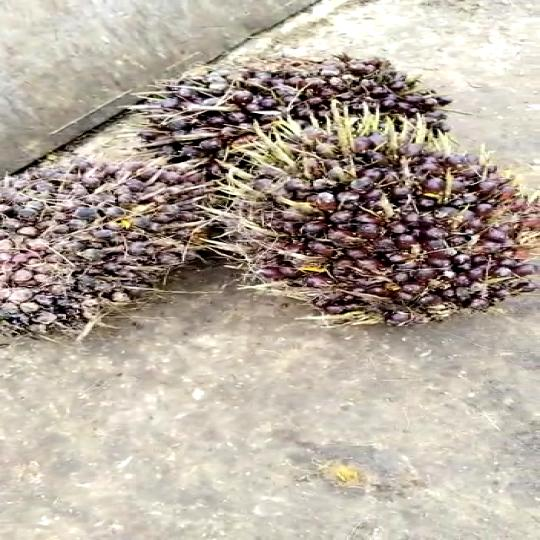kurang masak: (124, 41, 540, 337), (0, 138, 238, 364)
